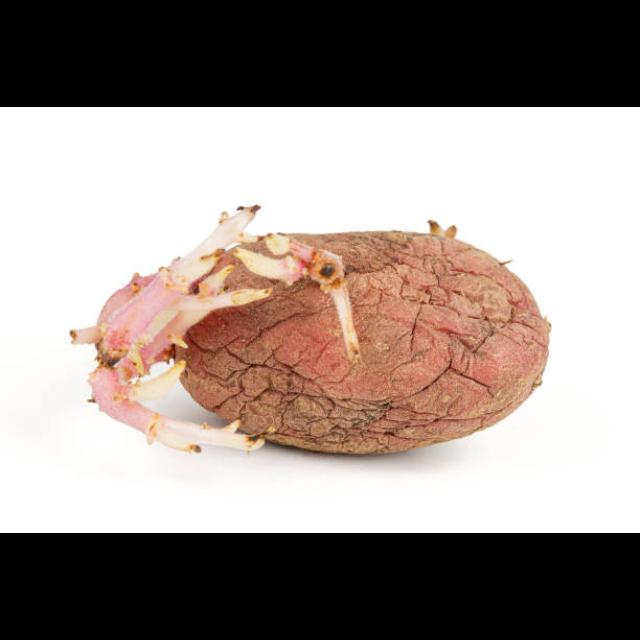Sprouted potato: (23, 170, 567, 470)
